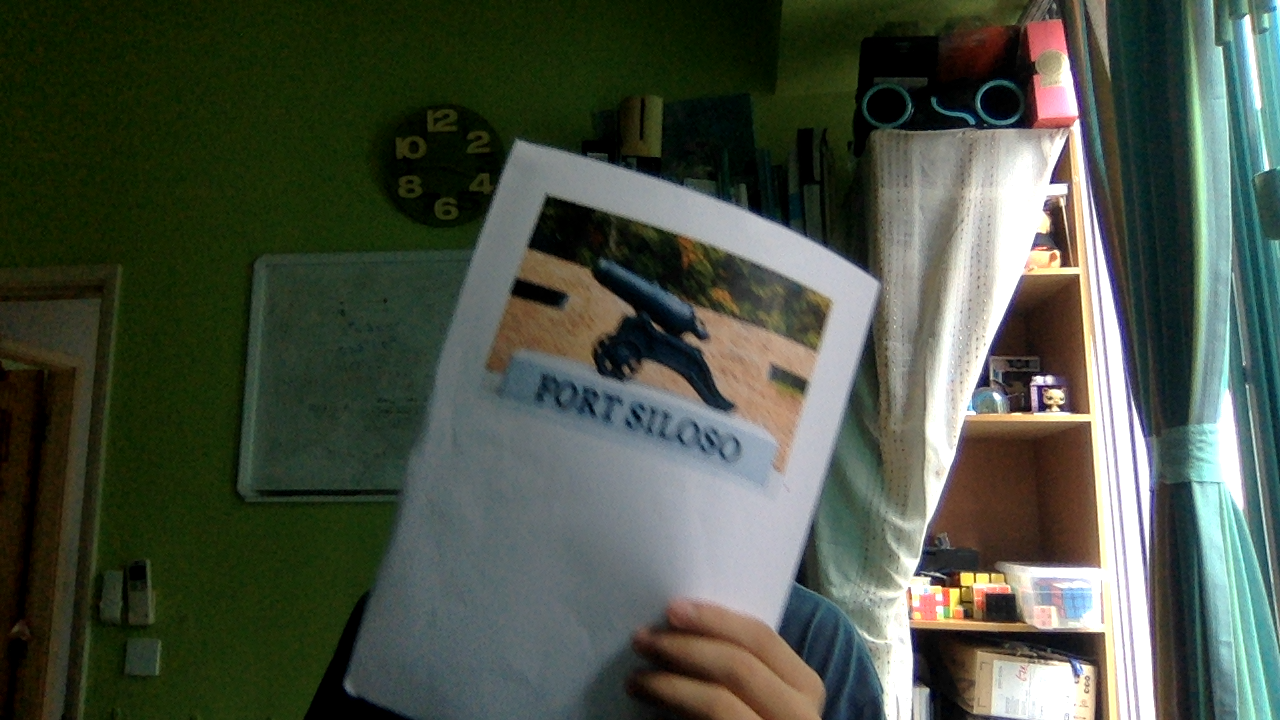siloso: (518, 193, 794, 488)
